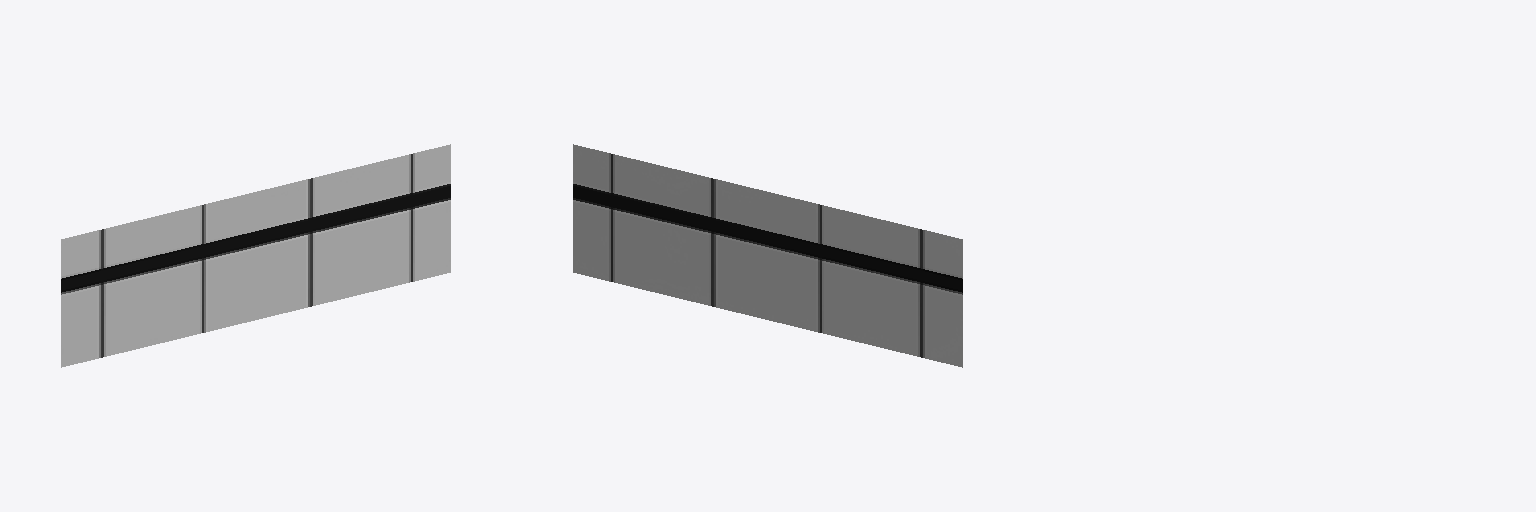
The picture shows the model from 3 angles: view 1: azimuth 30°, elevation 25°; view 2: azimuth 150°, elevation 25°; view 3: azimuth 270°, elevation 25°; orthographic projection.
Parts seen in each view (by area): view 1: mid9; view 2: mid9; view 3: none.
Boxes of the visible parts, x1,y1,x2,y2 form: mid9: [61, 144, 450, 367]; mid9: [573, 144, 962, 367].
Bounding box in the file's own units: 20.88 × 6.58 × 0.
1 materials, 1 textured.